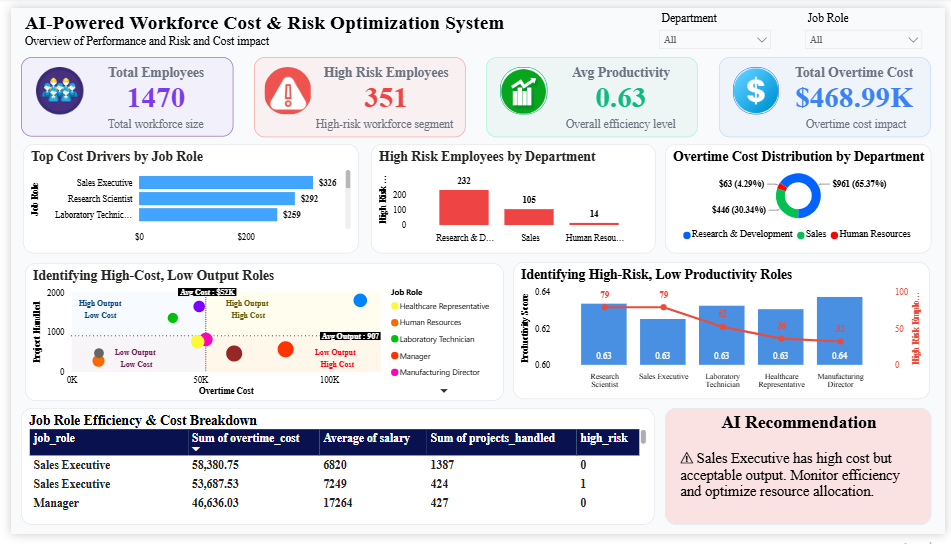

This screenshot's page, from the dashboard's own definition file:
{"tool":"powerbi","page":{"name":"Page 1","canvas":[1280,720],"ordinal":0},"visuals":[{"type":"textbox","box":[13.4,0,673.6,62.2],"z":0},{"type":"cardVisual","fields":{"Data":["workforce_final_python.Total Employees"]},"box":[13.5,67.3,290.9,109.1],"z":1000},{"type":"cardVisual","fields":{"Data":["workforce_final_python.High Risk Employees"]},"box":[332.9,66.8,290,110],"z":2000},{"type":"cardVisual","fields":{"Data":["workforce_final_python.Avg Productivity"]},"box":[651.3,66.8,290,110],"z":3000},{"type":"cardVisual","fields":{"Data":["workforce_final_python.Total Overtime Cost"]},"box":[969.7,66.8,290,110],"z":4000},{"type":"image","box":[33.8,80.2,64.7,64.7],"z":5000},{"type":"image","box":[347,80.2,64.7,64.7],"z":6000},{"type":"image","box":[670.5,80.2,64.7,64.7],"z":7000},{"type":"image","box":[989.3,80.2,63.2,64.7],"z":8000},{"type":"textbox","box":[126.8,144.6,160.7,32.1],"z":9000},{"type":"textbox","box":[412.5,144.6,210.7,41.1],"z":10000},{"type":"textbox","box":[755.4,144.6,183.9,41.1],"z":11000},{"type":"textbox","box":[1083.9,144.6,157.1,41.1],"z":12000},{"type":"clusteredBarChart","title":"Top Cost Drivers by Job Role","fields":{"Y":["CountNonNull(workforce_final_python.overtime_cost)"],"Category":["workforce_final_python.job_role"]},"box":[16.8,186.5,460.3,149.5],"z":13000},{"type":"clusteredColumnChart","title":"High Risk Employees by Department","fields":{"Category":["workforce_final_python.department"],"Y":["workforce_final_python.High Risk Employees"]},"box":[492.6,186.8,389.7,150],"z":14000},{"type":"donutChart","title":"Overtime Cost Distribution by Department","fields":{"Y":["CountNonNull(workforce_final_python.overtime_cost)"],"Category":["workforce_final_python.department"]},"box":[895.5,186.4,365.2,150],"z":15000},{"type":"scatterChart","title":"Identifying High-Cost, Low Output Roles","fields":{"X":["workforce_final_python.overtime_cost"],"Y":["workforce_final_python.projects_handled"],"Size":["Max(workforce_final_python.salary)"],"Series":["workforce_final_python.job_role"]},"box":[18.8,349,656.2,188.5],"z":16000},{"type":"shape","title":"Avg Output : 907","box":[423.3,443.3,83.3,13.3],"z":17000},{"type":"shape","title":"Avg Cost : $52K","box":[228.9,383.3,80,11.1],"z":18000},{"type":"textbox","box":[87.5,388.5,71.9,45.8],"z":19000},{"type":"textbox","box":[136.5,456.2,92.7,50],"z":20000},{"type":"textbox","box":[289.6,388.5,89.6,56.2],"z":21000},{"type":"textbox","box":[411.5,456.2,81.2,50],"z":22000},{"type":"lineClusteredColumnComboChart","title":"Identifying High-Risk, Low Productivity Roles","fields":{"Category":["workforce_final_python.job_role"],"Y":["Avg(workforce_final_python.productivity_score)"],"Y2":["workforce_final_python.High Risk Employees"]},"box":[687.9,348.5,571.2,187.9],"z":23000},{"type":"tableEx","title":"Job Role Efficiency & Cost Breakdown","fields":{"Values":["workforce_final_python.job_role","workforce_final_python.overtime_cost","workforce_final_python.salary","workforce_final_python.projects_handled","workforce_final_python.high_risk"]},"box":[13.4,547.6,868.5,159.6],"z":24000},{"type":"cardVisual","title":"AI Recommendation","fields":{"Data":["workforce_final_python.AI Recommendation"]},"box":[895.3,547.6,364.5,159.6],"z":25000},{"type":"slicer","fields":{"Values":["workforce_final_python.department"]},"box":[878.6,0,173.2,60.7],"z":26000},{"type":"slicer","fields":{"Values":["workforce_final_python.job_role"]},"box":[1078.6,0,180.4,62.5],"z":27000}]}

Visuals, with their boxes in screenshot pixels (x1, y1, x2, y2), scaled from the page's 1280x720 canvas onto the 951x544 screenshot:
textbox: crop(10, 0, 510, 47)
cardVisual - workforce_final_python.Total Employees: crop(10, 51, 226, 133)
cardVisual - workforce_final_python.High Risk Employees: crop(247, 50, 463, 134)
cardVisual - workforce_final_python.Avg Productivity: crop(484, 50, 699, 134)
cardVisual - workforce_final_python.Total Overtime Cost: crop(720, 50, 936, 134)
image: crop(25, 61, 73, 109)
image: crop(258, 61, 306, 109)
image: crop(498, 61, 546, 109)
image: crop(735, 61, 782, 109)
textbox: crop(94, 109, 214, 134)
textbox: crop(306, 109, 463, 140)
textbox: crop(561, 109, 698, 140)
textbox: crop(805, 109, 922, 140)
"Top Cost Drivers by Job Role" clusteredBarChart: crop(12, 141, 354, 254)
"High Risk Employees by Department" clusteredColumnChart: crop(366, 141, 656, 254)
"Overtime Cost Distribution by Department" donutChart: crop(665, 141, 937, 254)
"Identifying High-Cost, Low Output Roles" scatterChart: crop(14, 264, 502, 406)
"Avg Output : 907" shape: crop(314, 335, 376, 345)
"Avg Cost : $52K" shape: crop(170, 290, 230, 298)
textbox: crop(65, 294, 118, 328)
textbox: crop(101, 345, 170, 382)
textbox: crop(215, 294, 282, 336)
textbox: crop(306, 345, 366, 382)
"Identifying High-Risk, Low Productivity Roles" lineClusteredColumnComboChart: crop(511, 263, 935, 405)
"Job Role Efficiency & Cost Breakdown" tableEx: crop(10, 414, 655, 534)
"AI Recommendation" cardVisual: crop(665, 414, 936, 534)
slicer - workforce_final_python.department: crop(653, 0, 781, 46)
slicer - workforce_final_python.job_role: crop(801, 0, 935, 47)
